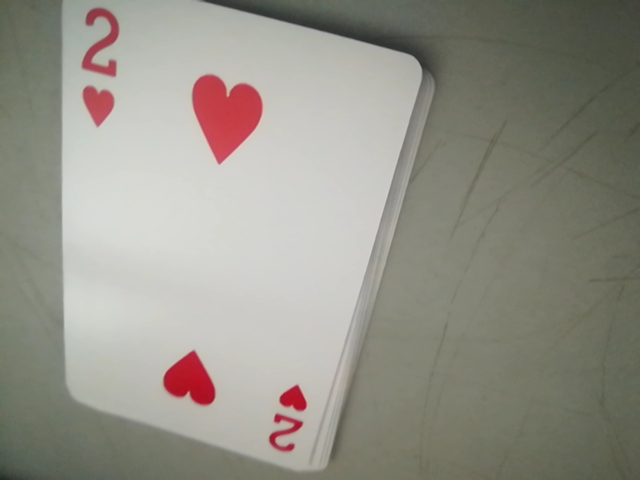hx 2: (81, 7, 123, 126), (264, 383, 320, 452)
